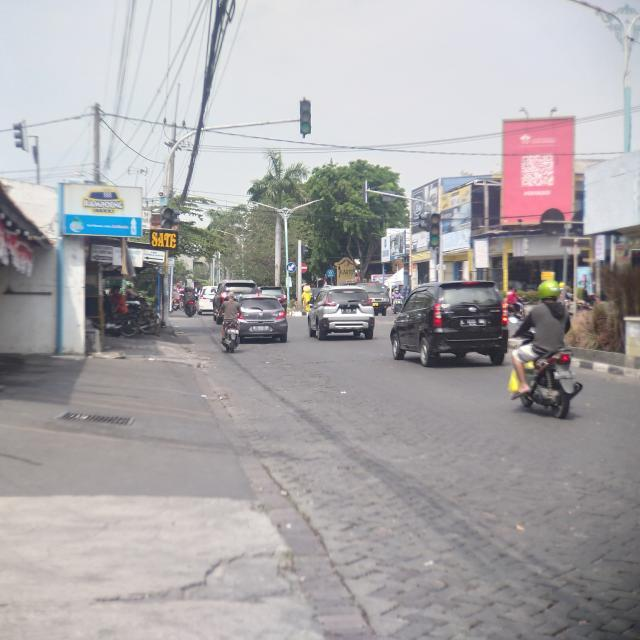green light: (298, 100, 314, 135), (428, 211, 441, 247)
